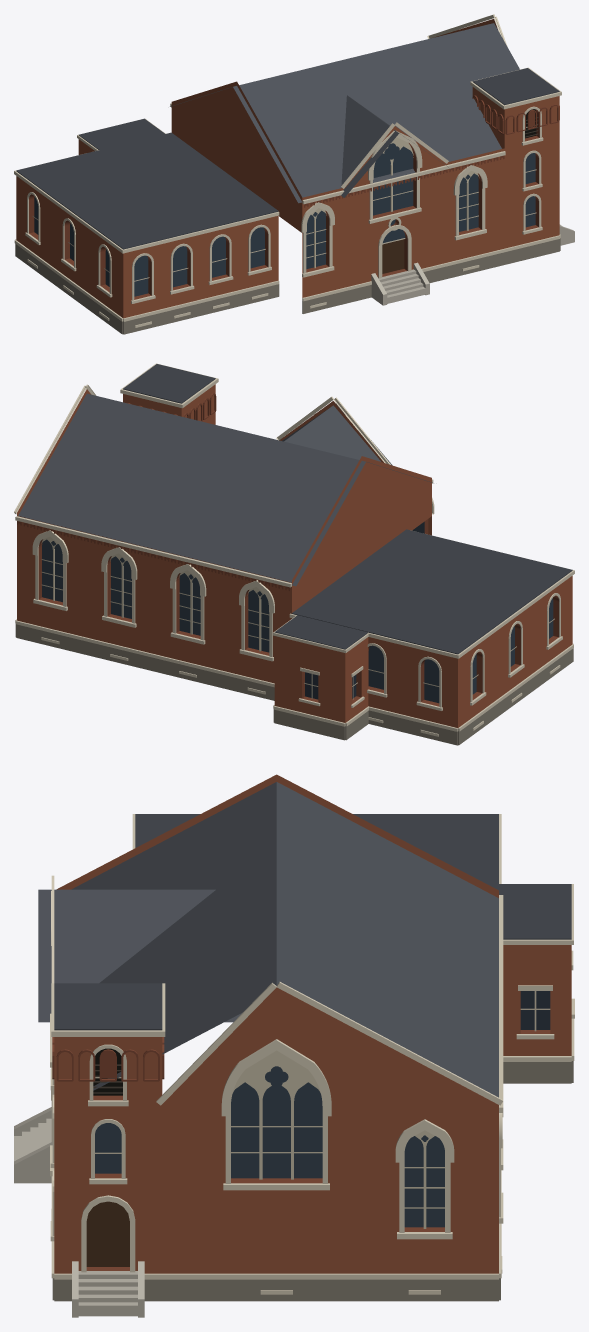
Rendered from ch-asbury-methodist-1913.glb.
The picture shows the model from 3 angles, top to bottom: view 1: azimuth 30°, elevation 25°; view 2: azimuth 150°, elevation 25°; view 3: azimuth 270°, elevation 25°; orthographic projection. The views are drawn at different scales.
Parts seen in each view (by area): view 1: ch_brick, ch_roof, ch_roof2, ch_trim, ch_stain, ch_base, ch_brick2, ch_conc, ch_trc, ch_door; view 2: ch_brick, ch_roof, ch_roof2, ch_trim, ch_base, ch_stain, ch_brick2, ch_trc; view 3: ch_brick, ch_roof, ch_trim, ch_roof2, ch_stain, ch_base, ch_conc, ch_trc, ch_brick2, ch_door, ch_glass.
Part boxes in pixels (box(x1,y1,x2,y2)): ch_brick: box(16, 19, 559, 318); ch_roof: box(170, 23, 519, 203); ch_roof2: box(16, 68, 559, 249); ch_trim: box(14, 14, 561, 327); ch_stain: box(34, 143, 535, 296); ch_base: box(15, 238, 560, 334); ch_brick2: box(29, 95, 559, 299); ch_conc: box(371, 224, 574, 305); ch_trc: box(306, 137, 479, 268); ch_door: box(382, 239, 404, 273); ch_brick: box(17, 384, 572, 727); ch_roof: box(18, 393, 433, 586); ch_roof2: box(123, 364, 572, 654); ch_trim: box(14, 363, 574, 736); ch_base: box(15, 623, 573, 745); ch_stain: box(42, 521, 553, 703); ch_brick2: box(17, 393, 558, 706); ch_trc: box(41, 536, 269, 651); ch_brick: box(54, 774, 571, 1273); ch_roof: box(38, 782, 498, 1097); ch_trim: box(50, 814, 574, 1294); ch_roof2: box(54, 814, 571, 1030); ch_stain: box(95, 1066, 444, 1227); ch_base: box(52, 1061, 573, 1301); ch_conc: box(14, 1107, 144, 1317); ch_trc: box(231, 1050, 444, 1228); ch_brick2: box(52, 1030, 550, 1270); ch_door: box(86, 1201, 129, 1266); ch_glass: box(520, 991, 550, 1029).
Bounding box in the file's own units: 31.64 × 13.06 × 20.82.
